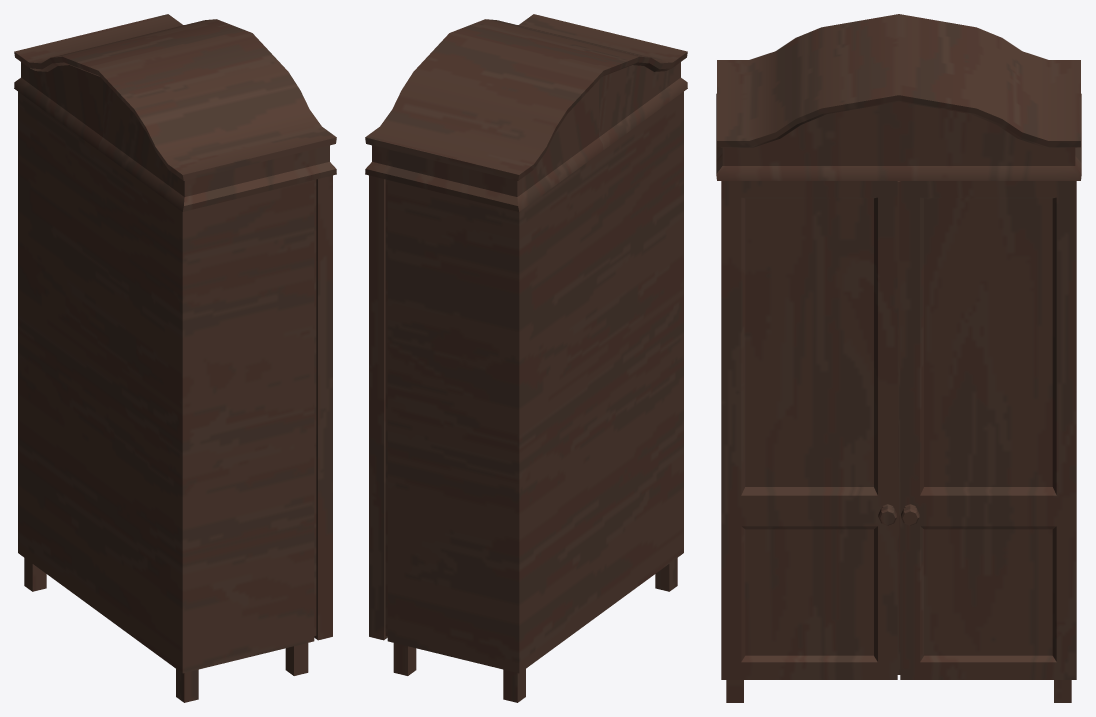
Rendered from STFwardrobe_002.glb.
The picture shows the model from 3 angles, left to right: view 1: azimuth 30°, elevation 25°; view 2: azimuth 150°, elevation 25°; view 3: azimuth 270°, elevation 25°; orthographic projection. The views are drawn at different scales.
Visible parts, largest first — view 1: STFwardrobe_002; view 2: STFwardrobe_002; view 3: STFwardrobe_002.
Part boxes in pixels (x1,y1,x2,y2): STFwardrobe_002: [14, 14, 336, 702]; STFwardrobe_002: [365, 14, 687, 702]; STFwardrobe_002: [716, 14, 1081, 702].
Bounding box in the file's own units: 0.5247 × 1.74 × 0.9264.
1 material, 1 textured.
